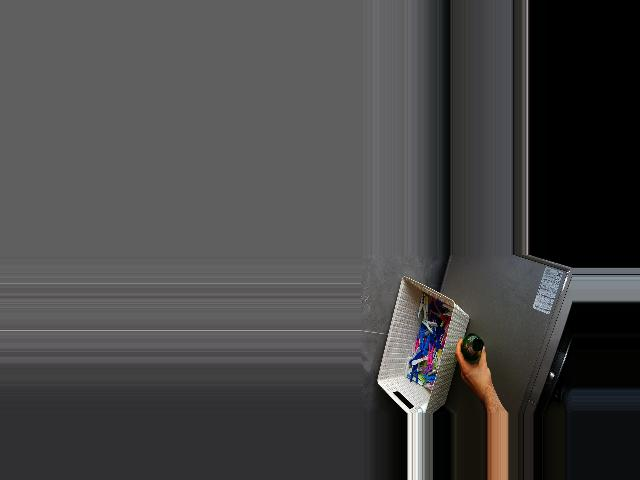beer: (461, 333, 484, 361)
